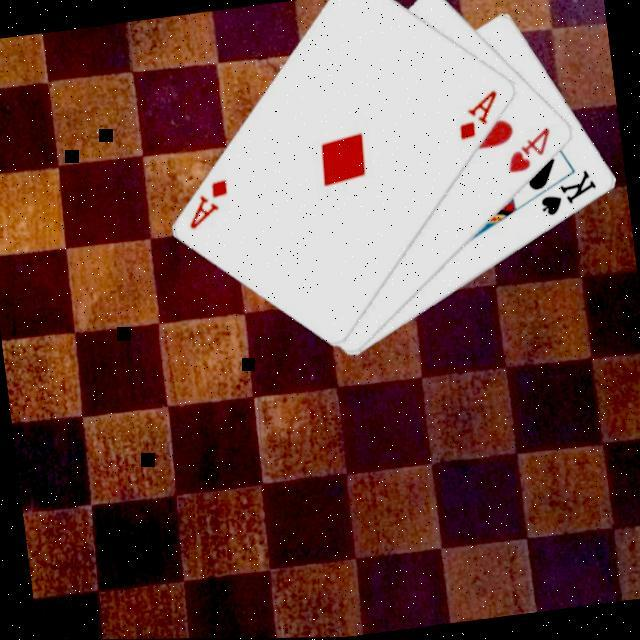4H: (498, 124, 556, 179)
AD: (449, 87, 504, 145), (180, 176, 234, 234)
KS: (532, 168, 601, 222)
